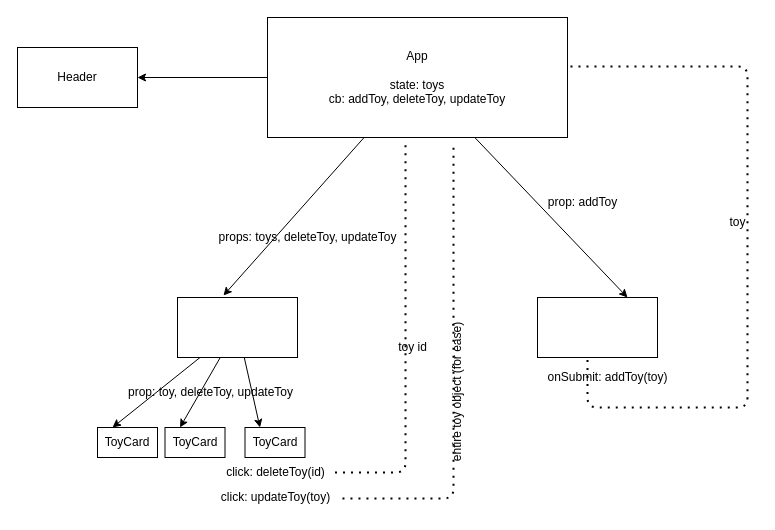
This 775x530 diagram has some shape labels left out. Each missing label, with the centre of its shape:
"ToyContainer" goes at pixel 237 327.
"ToyForm" goes at pixel 597 327.
